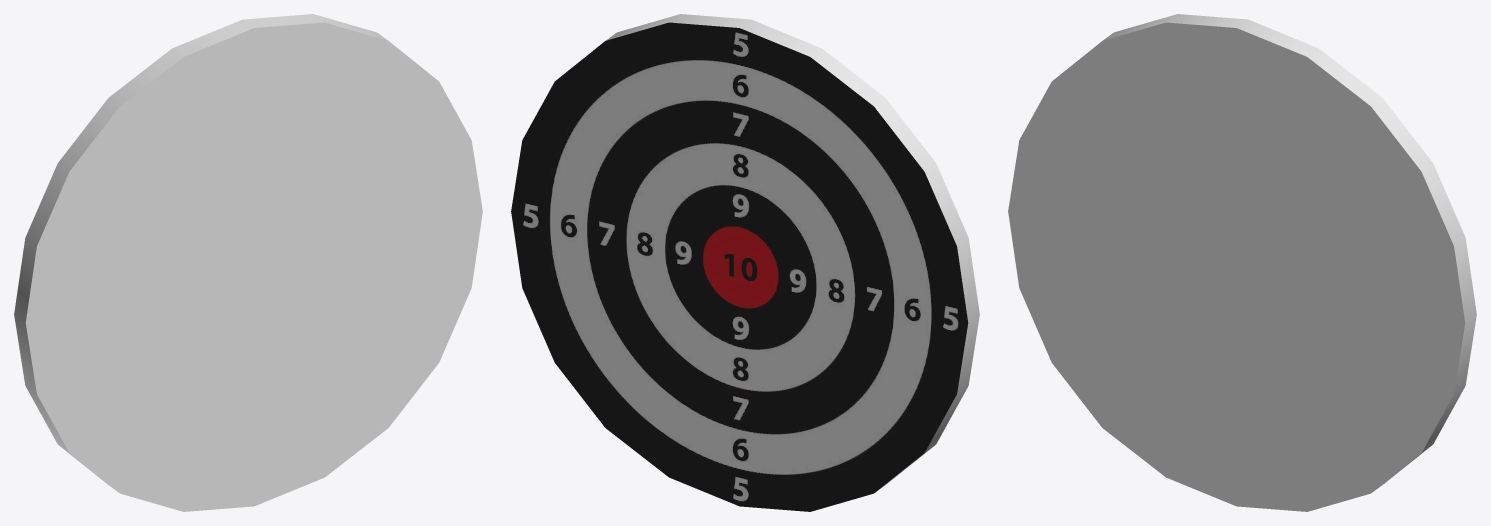
The model's file is target.fbx.
The picture shows the model from 3 angles, left to right: view 1: azimuth 30°, elevation 25°; view 2: azimuth 150°, elevation 25°; view 3: azimuth 330°, elevation 25°; orthographic projection.
Visible parts, largest first — view 1: pCylinder1; view 2: pCylinder1; view 3: pCylinder1.
Boxes of the visible parts, bbox=[...] form: pCylinder1: bbox=[14, 14, 482, 511]; pCylinder1: bbox=[511, 14, 979, 511]; pCylinder1: bbox=[1008, 14, 1476, 511].
Size of the model in its own units: 13.16 by 13.16 by 0.5796.
Materials: 2 (1 with a texture image).
